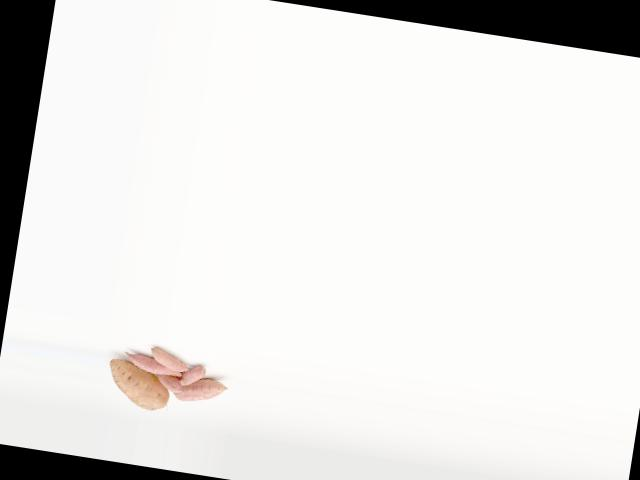sweet_potato: (174, 374, 230, 407)
